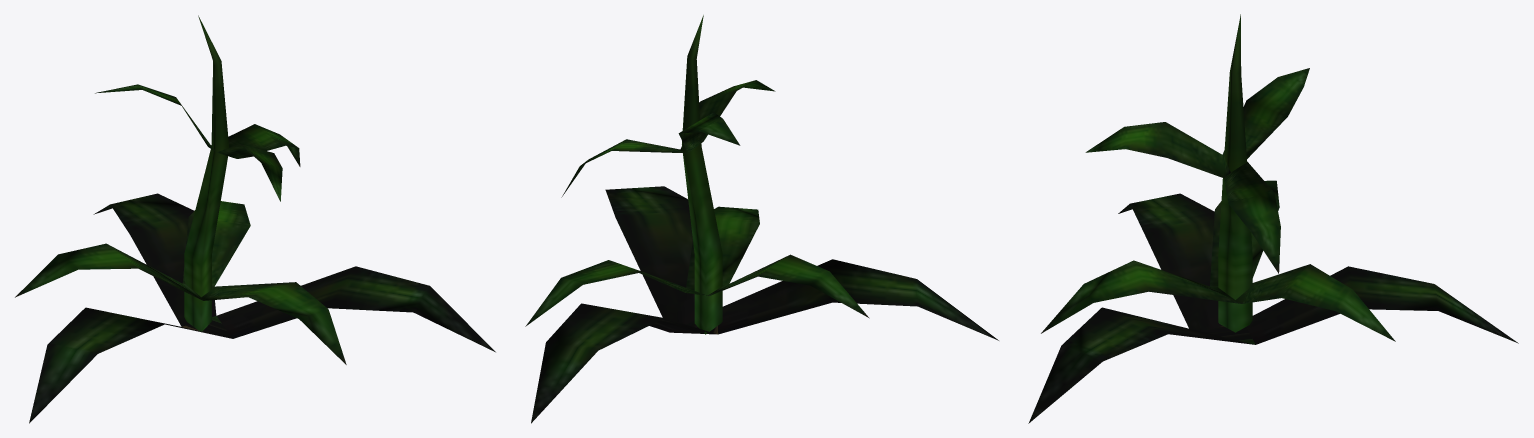
The model's file is ITPL_PERM_HERB.glb.
The picture shows the model from 3 angles, left to right: view 1: azimuth 30°, elevation 25°; view 2: azimuth 150°, elevation 25°; view 3: azimuth 270°, elevation 25°; orthographic projection.
Parts seen in each view (by area): view 1: Mesh; view 2: Mesh; view 3: Mesh.
Boxes of the visible parts, x1,y1,x2,y2 form: Mesh: [15, 15, 495, 423]; Mesh: [525, 15, 998, 423]; Mesh: [1028, 14, 1518, 423].
Size of the model in its own units: 0.4819 by 0.3408 by 0.477.
Materials: 1 (1 with a texture image).
